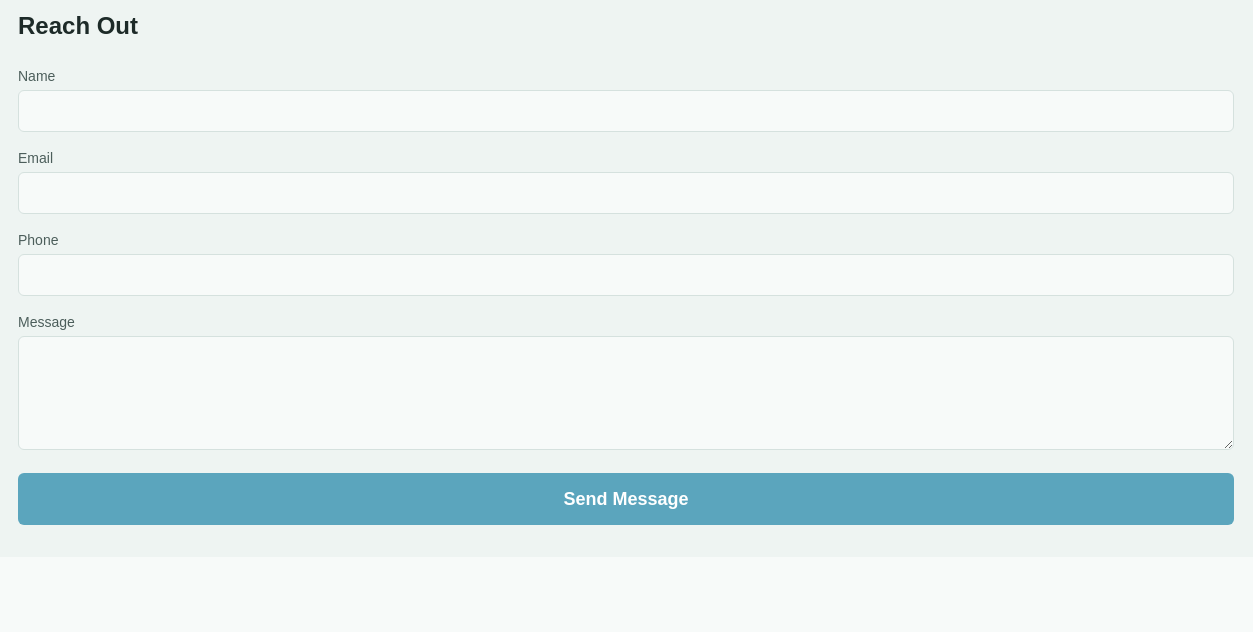
Scenario: ContactForm › submits the form and shows success message
Type "Jane Doe" into the field labelled "Name" at [626, 111], box [18,90,1234,132]
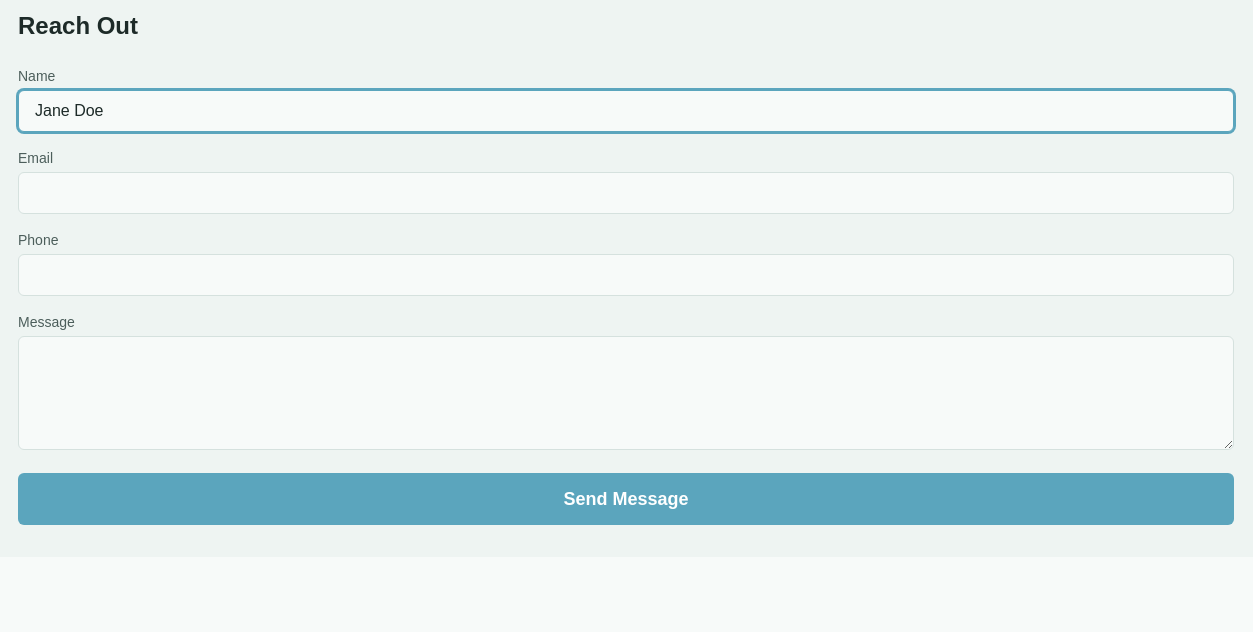
Type "Hello there." into the text box labelled "Message" at [626, 393], box [18,336,1234,450]
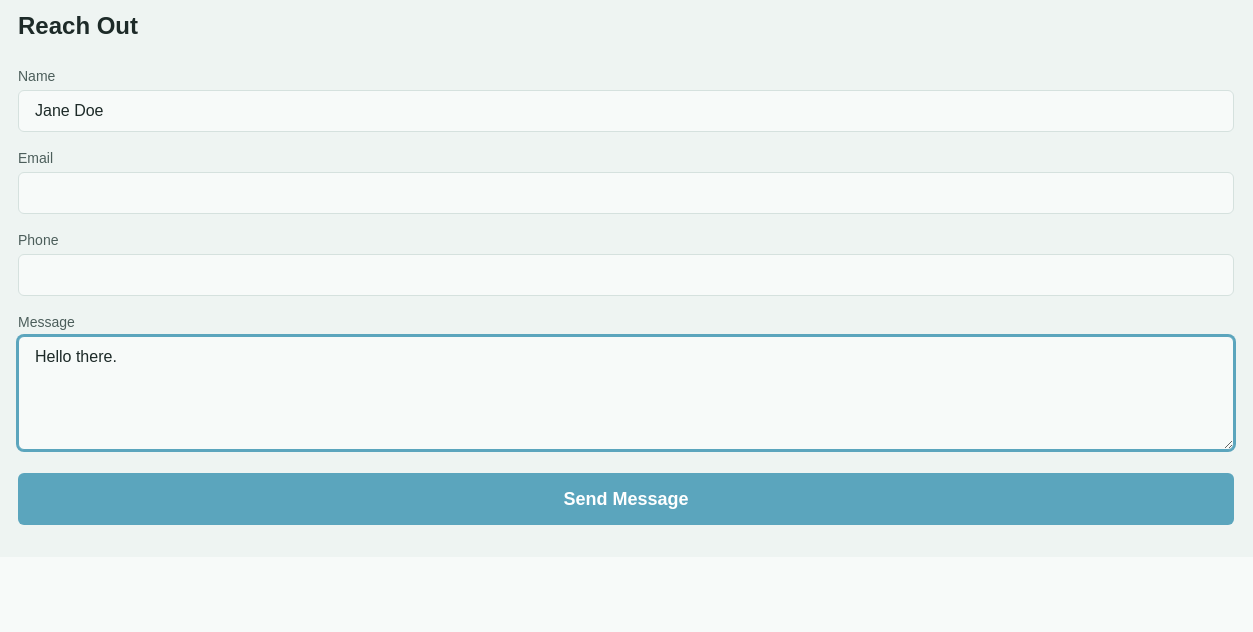
Type "jane.doe@example.com" into the field labelled "Email" at [626, 193], box [18,172,1234,214]
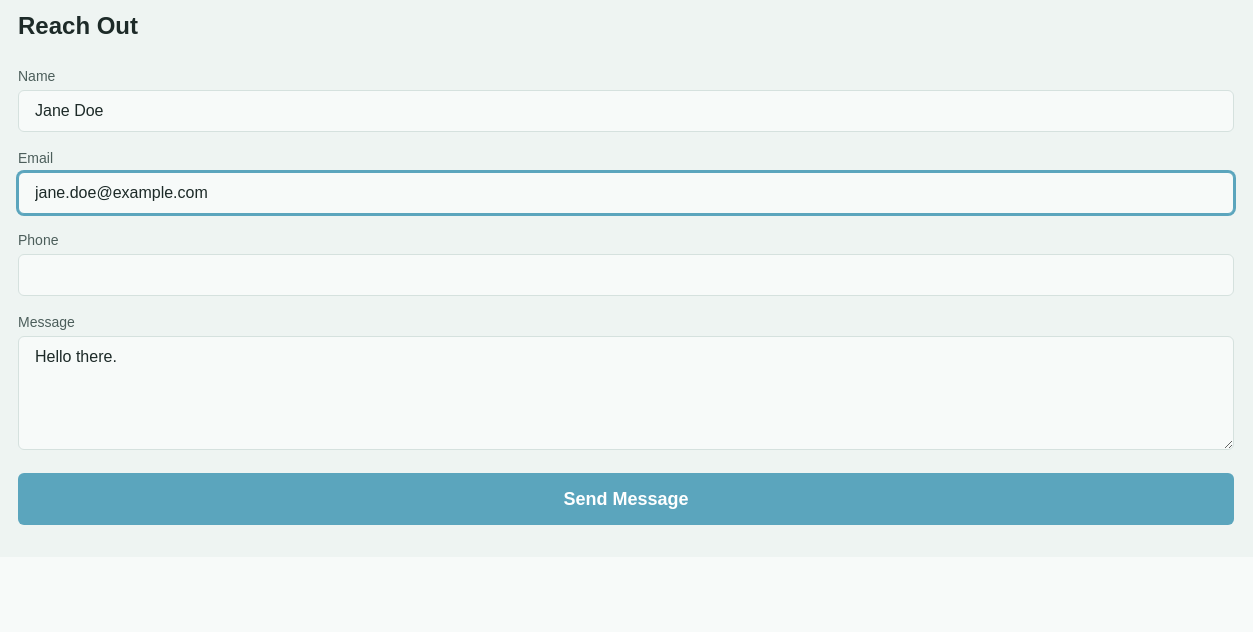
Click the button "Send Message" at [626, 499], box [18,473,1234,525]
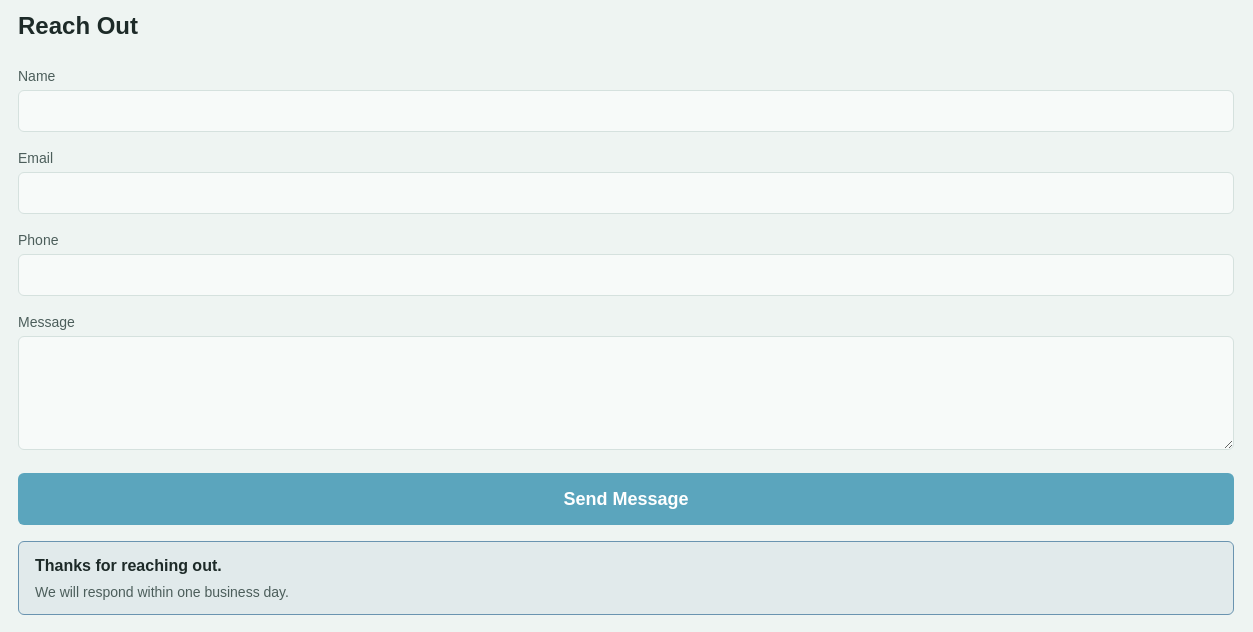
Expected: the text "Thanks for reaching out." is shown, [35,557,222,574]
Expected: the text "We will respond within one business day." is shown, [35,584,289,600]
Expected: the field labelled "Name" is empty, [18,90,1234,132]
